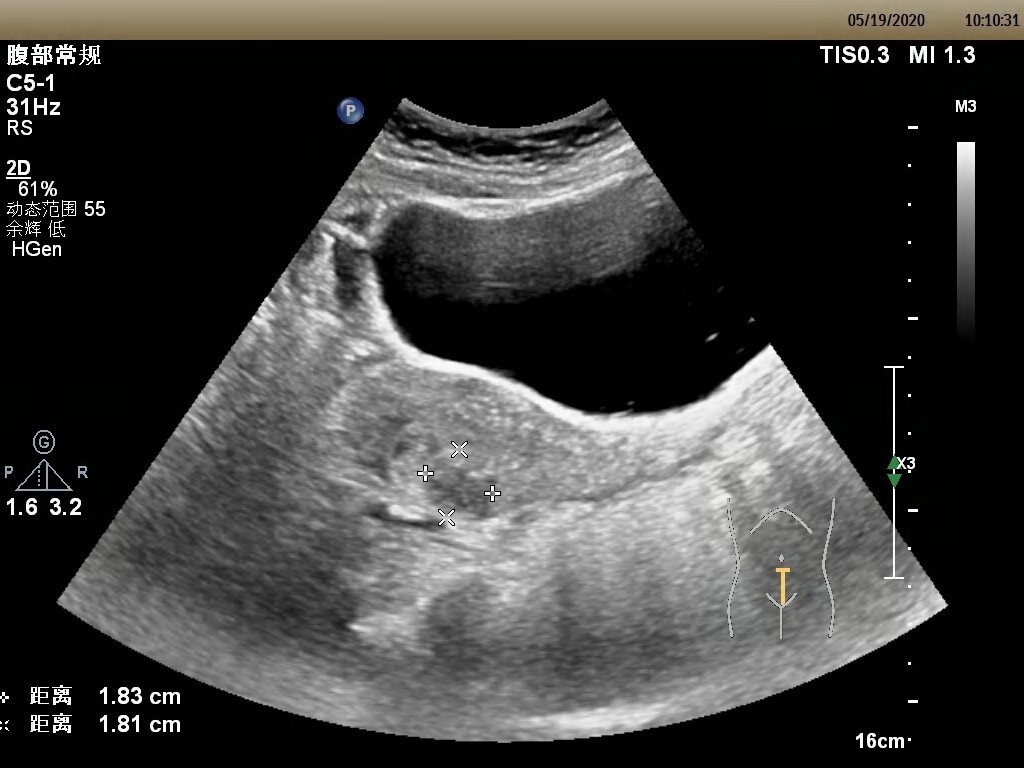肌瘤: (425, 449, 494, 519)
